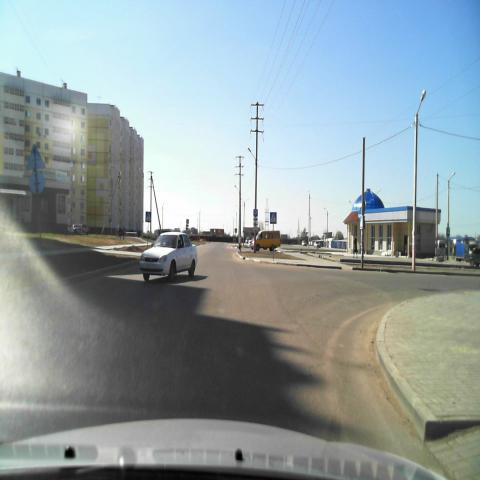5_19_1: (270, 212, 277, 224), (145, 211, 152, 222)
